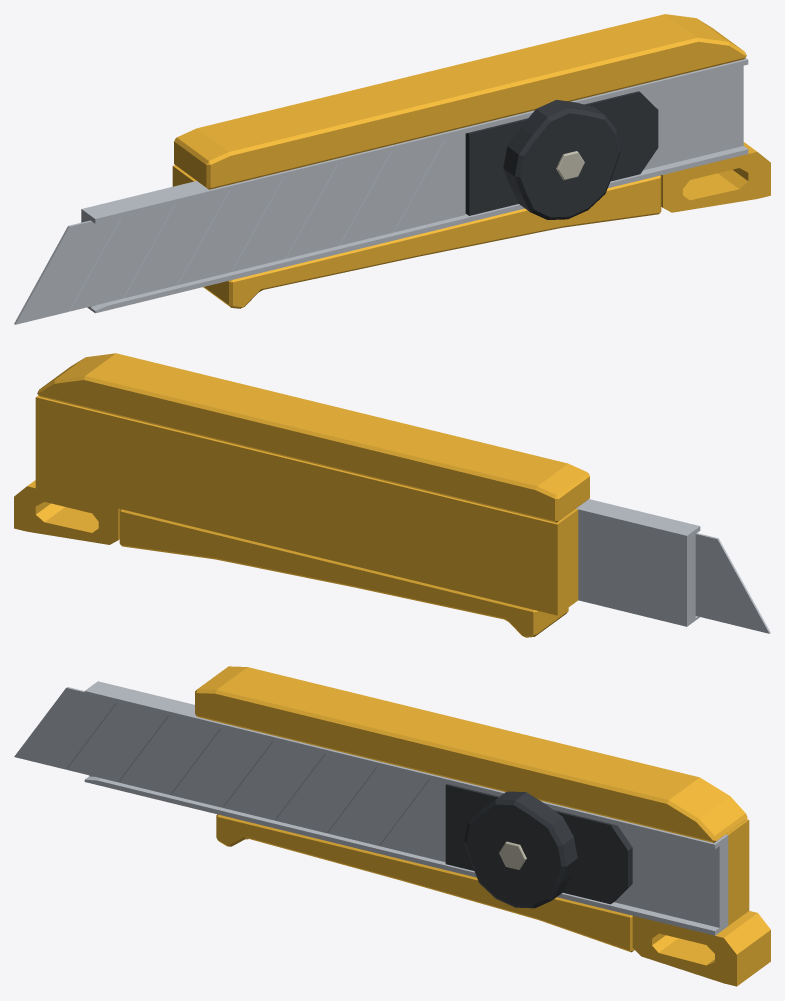
3 renders of one model, top to bottom at view 1: azimuth 30°, elevation 25°; view 2: azimuth 150°, elevation 25°; view 3: azimuth 330°, elevation 25°, orthographic. The views are drawn at different scales.
Visible parts, largest first — view 1: Segmented_blade_stock_finite_scored, Upper_molded_grip_rail, Lower_curved_molded_grip_rail, Wheel_lock_knurled_rim, Metal_channel_backing, Estimated_static_blade_carrier, Lower_nose_and_channel_guide, Hooked_tail_with_through_lanyard_aperture, Upper_nose_and_channel_guide, Wheel_central_hex_fastener; view 2: Rear_handle_web, Upper_molded_grip_rail, Metal_channel_backing, Lower_curved_molded_grip_rail, Hooked_tail_with_through_lanyard_aperture, Segmented_blade_stock_finite_scored, Upper_nose_and_channel_guide; view 3: Upper_molded_grip_rail, Segmented_blade_stock_finite_scored, Wheel_lock_knurled_rim, Lower_curved_molded_grip_rail, Metal_channel_backing, Estimated_static_blade_carrier, Hooked_tail_with_through_lanyard_aperture, Lower_nose_and_channel_guide, Upper_nose_and_channel_guide, Rear_handle_web, Wheel_central_hex_fastener.
Part boxes in pixels (box(x1,y1,x2,y2)): Segmented_blade_stock_finite_scored: box(14, 133, 465, 324); Upper_molded_grip_rail: box(174, 14, 746, 189); Lower_curved_molded_grip_rail: box(203, 175, 661, 308); Wheel_lock_knurled_rim: box(503, 99, 620, 219); Metal_channel_backing: box(81, 65, 743, 309); Estimated_static_blade_carrier: box(465, 91, 658, 215); Lower_nose_and_channel_guide: box(90, 146, 748, 313); Hooked_tail_with_through_lanyard_aperture: box(660, 142, 770, 212); Upper_nose_and_channel_guide: box(90, 58, 748, 223); Wheel_central_hex_fastener: box(556, 151, 584, 180); Rear_handle_web: box(35, 395, 578, 615); Upper_molded_grip_rail: box(37, 353, 589, 522); Metal_channel_backing: box(576, 502, 695, 626); Lower_curved_molded_grip_rail: box(119, 509, 568, 637); Hooked_tail_with_through_lanyard_aperture: box(14, 480, 120, 544); Segmented_blade_stock_finite_scored: box(695, 533, 770, 633); Upper_nose_and_channel_guide: box(585, 499, 700, 533); Upper_molded_grip_rail: box(195, 666, 747, 842); Segmented_blade_stock_finite_scored: box(14, 687, 446, 862); Wheel_lock_knurled_rim: box(464, 791, 577, 908); Lower_curved_molded_grip_rail: box(216, 814, 634, 952); Metal_channel_backing: box(89, 681, 728, 931); Estimated_static_blade_carrier: box(445, 784, 632, 904); Hooked_tail_with_through_lanyard_aperture: box(632, 911, 770, 986); Lower_nose_and_channel_guide: box(84, 776, 719, 935); Upper_nose_and_channel_guide: box(84, 687, 719, 849); Rear_handle_web: box(726, 819, 749, 925); Wheel_central_hex_fastener: box(499, 841, 526, 869).
Bounding box in the file's own units: 0.167 × 0.037 × 0.02.
